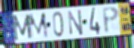0: (52, 11, 65, 38)
4: (89, 7, 102, 37)
M: (28, 12, 50, 41), (11, 14, 33, 42)
N: (67, 9, 85, 37)
P: (101, 6, 120, 35)
